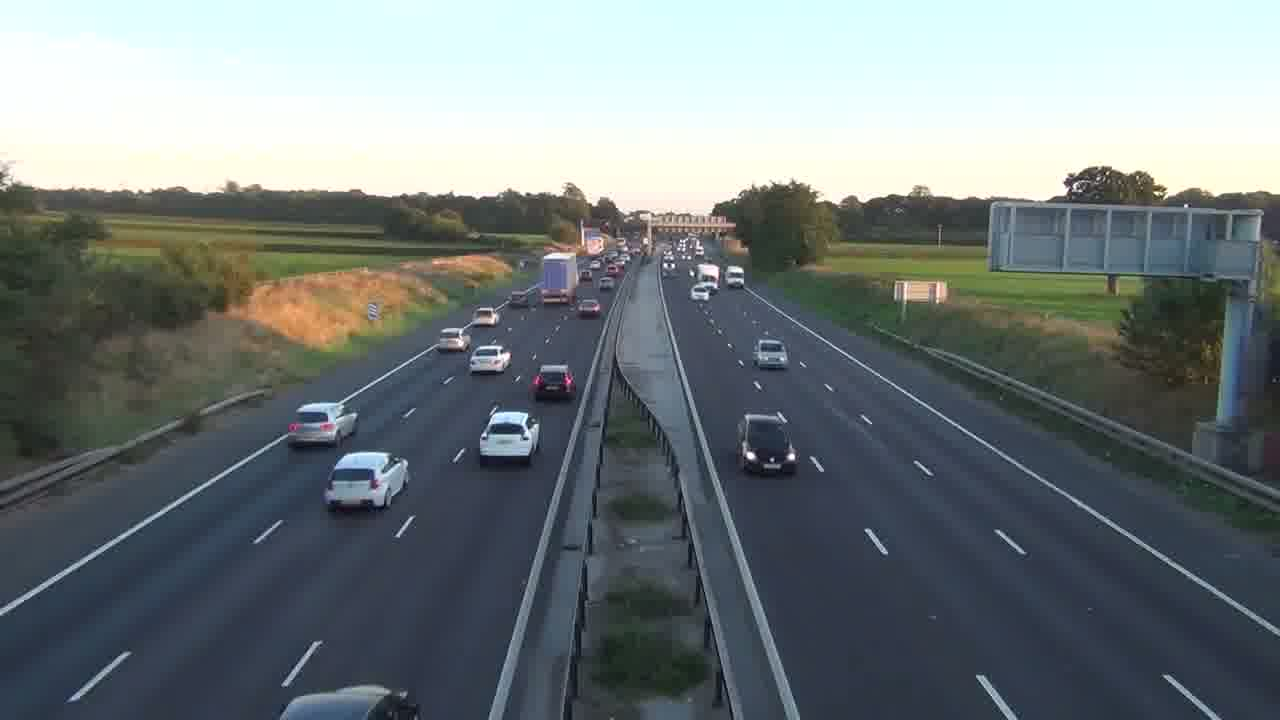car: (323, 450, 410, 512), (737, 411, 799, 476), (479, 410, 542, 464), (287, 401, 359, 448), (529, 363, 577, 402), (468, 343, 511, 375)
truck: (539, 254, 581, 306)
